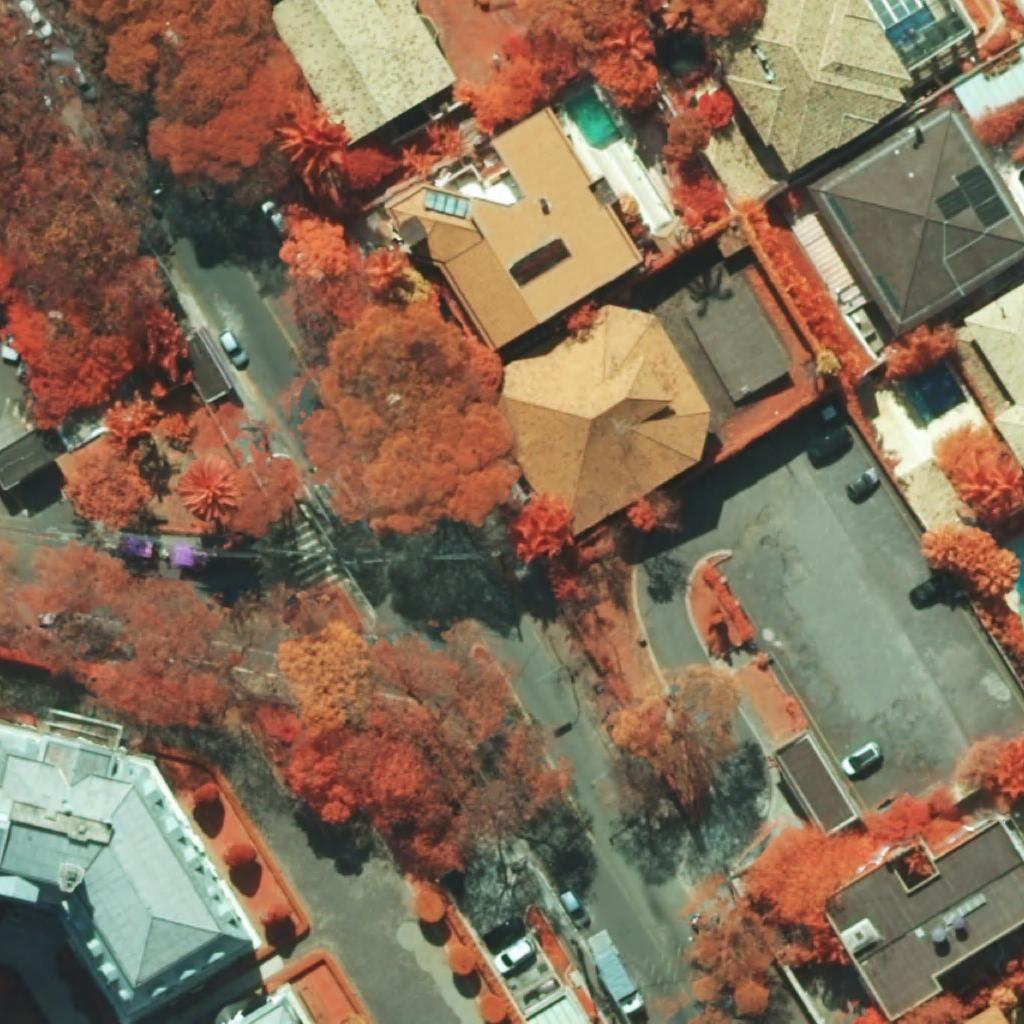pool: (564, 87, 624, 151), (885, 6, 936, 45), (1008, 537, 1024, 621)
